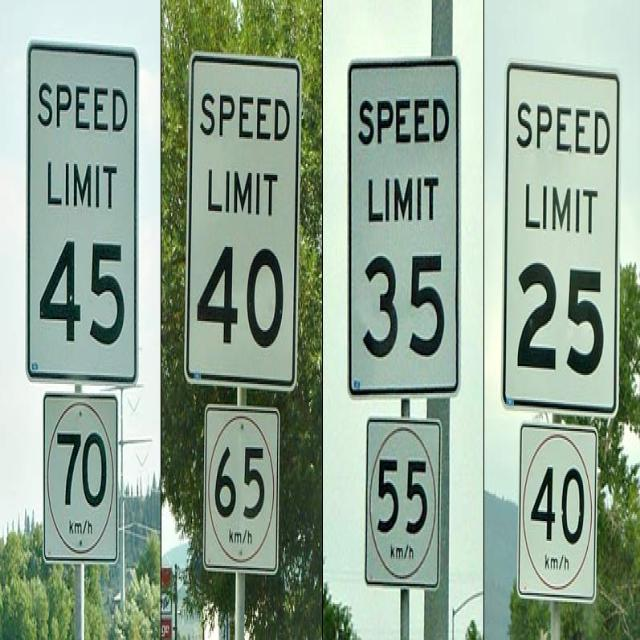speedLimit25: (502, 77, 620, 407)
speedLimit35: (344, 57, 453, 392)
speedLimit40: (184, 61, 300, 385)
speedLimit45: (25, 44, 143, 380)
